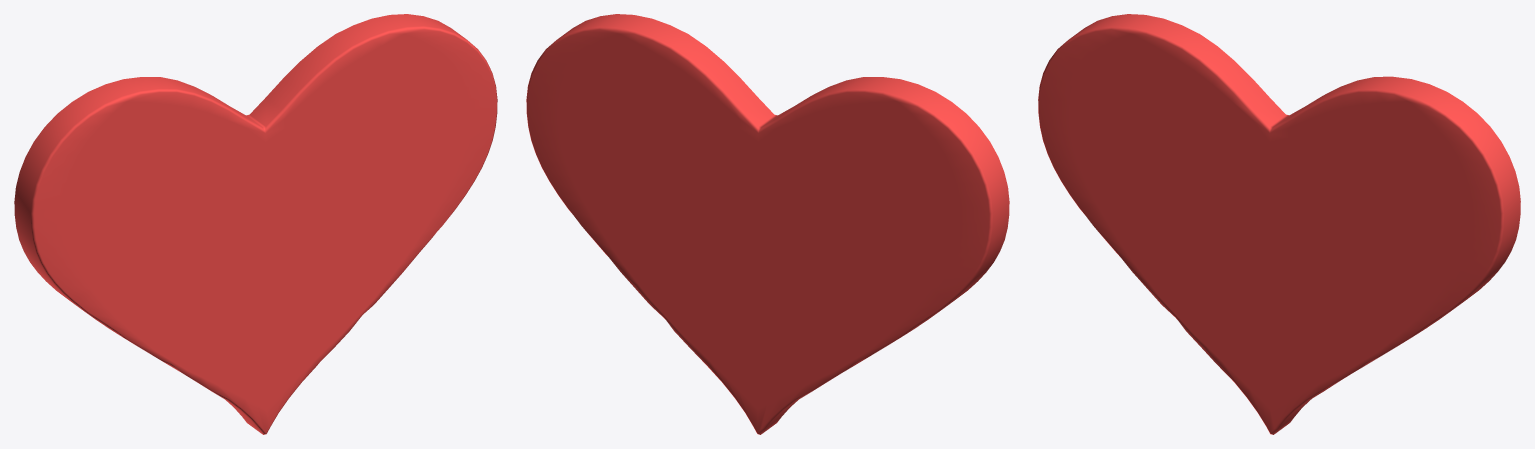
Rendered from Store_17_Heart_Sign_1.glb.
The picture shows the model from 3 angles, left to right: view 1: azimuth 30°, elevation 25°; view 2: azimuth 150°, elevation 25°; view 3: azimuth 330°, elevation 25°; orthographic projection.
Visible parts, largest first — view 1: Store_17_Heart_Sign_1; view 2: Store_17_Heart_Sign_1; view 3: Store_17_Heart_Sign_1.
Boxes of the visible parts, box(x1,y1,x2,y2) form: Store_17_Heart_Sign_1: box(14, 14, 497, 434); Store_17_Heart_Sign_1: box(526, 14, 1009, 434); Store_17_Heart_Sign_1: box(1038, 14, 1520, 434).
Bounding box in the file's own units: 0.9607 × 0.7353 × 0.0684.
Materials: 1 (1 with a texture image).
